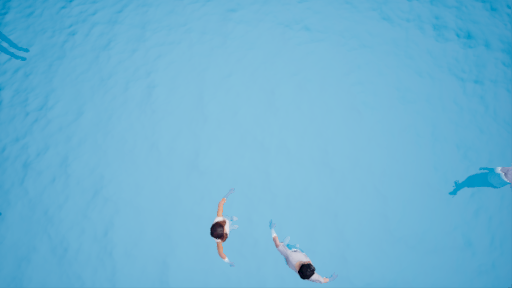person: (267, 219, 348, 288), (206, 179, 244, 265), (449, 157, 512, 197)
